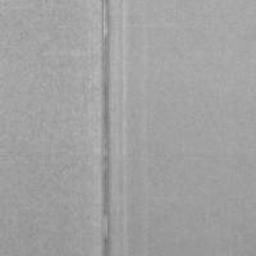Welding line: (100, 0, 113, 256)
